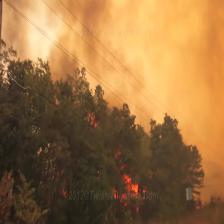fire: (79, 139, 204, 224)
smoke: (0, 0, 224, 80)
